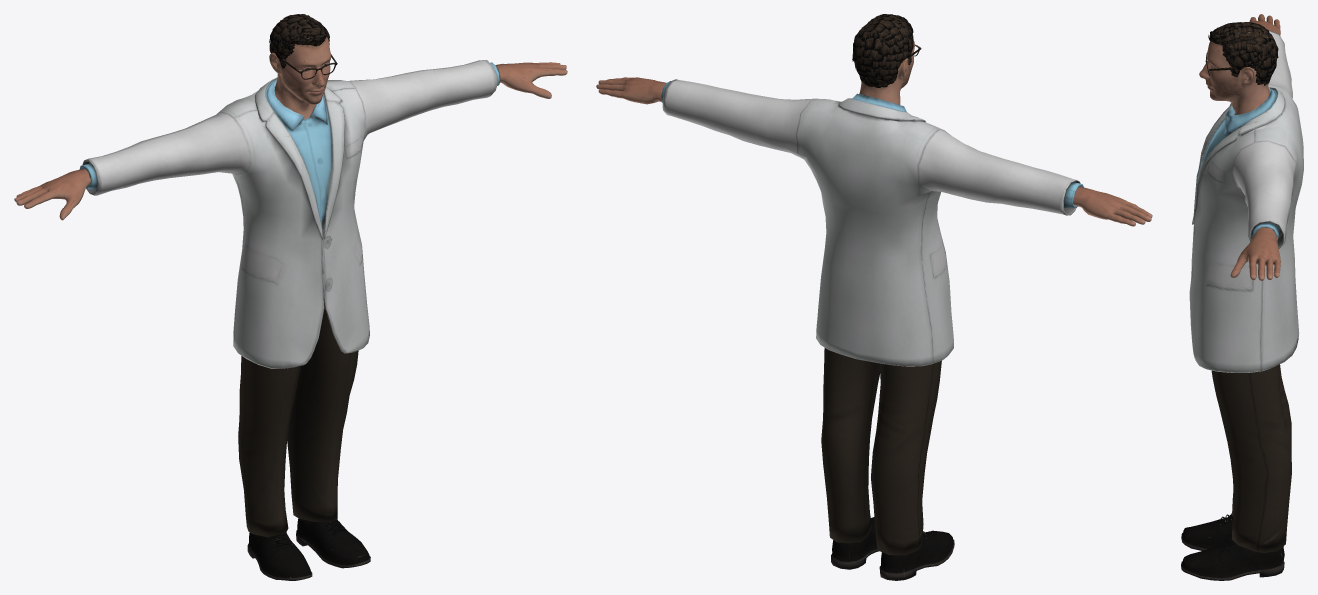
The model's file is Skinned Scientist.fbx.
The picture shows the model from 3 angles, left to right: view 1: azimuth 30°, elevation 25°; view 2: azimuth 150°, elevation 25°; view 3: azimuth 270°, elevation 25°; orthographic projection.
Visible parts, largest first — view 1: Scientist_Base.001; view 2: Scientist_Base.001; view 3: Scientist_Base.001.
Part boxes in pixels (x1,y1,x2,y2): Scientist_Base.001: (14,14,567,580); Scientist_Base.001: (596,14,1152,580); Scientist_Base.001: (1181,14,1303,580).
Size of the model in its own units: 577 by 538 by 112.
1 material, 1 textured.
